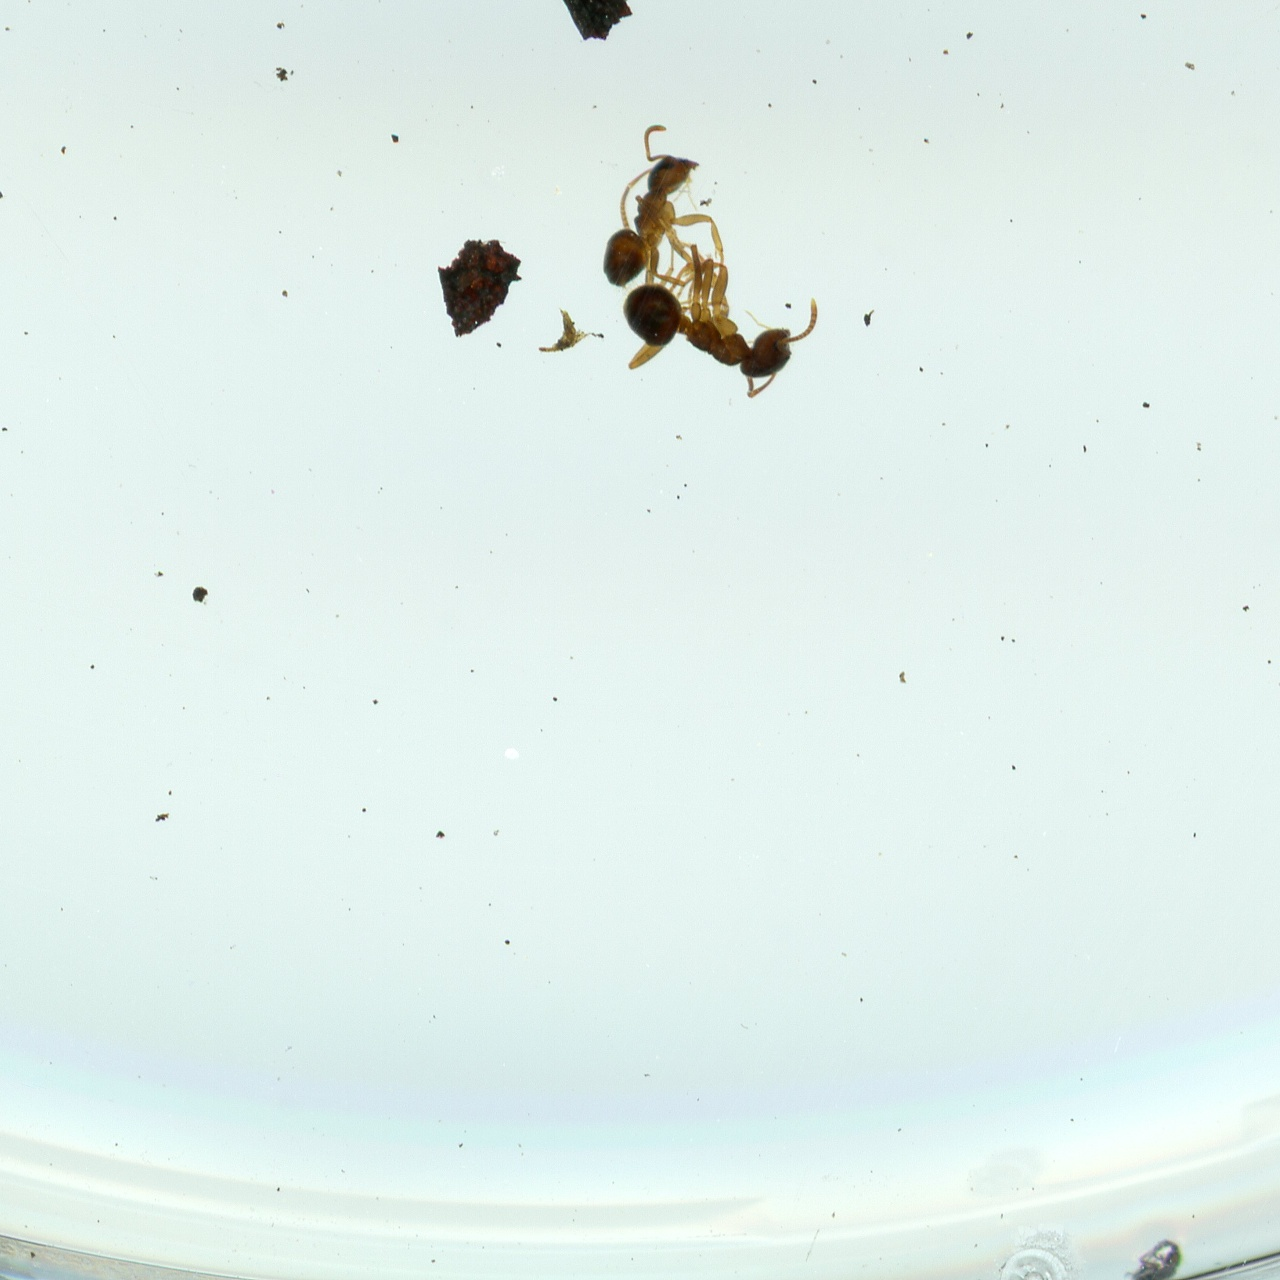arthropod: (618, 255, 823, 397), (600, 121, 714, 289)
